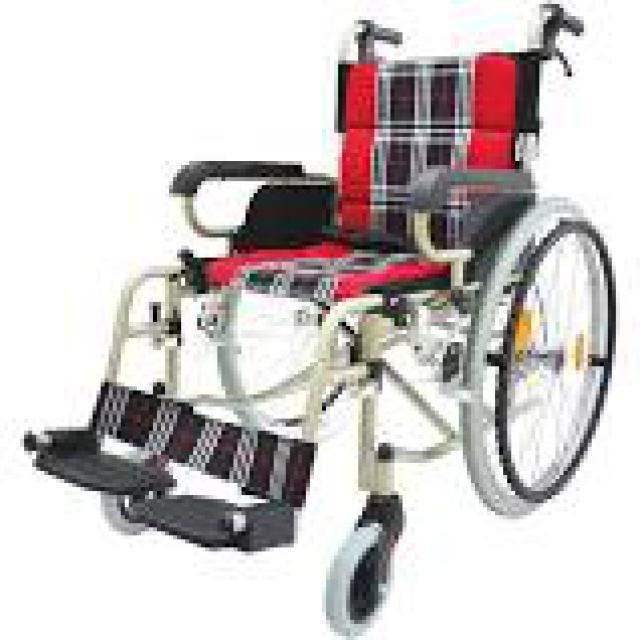wheelchair: (20, 4, 616, 636)
